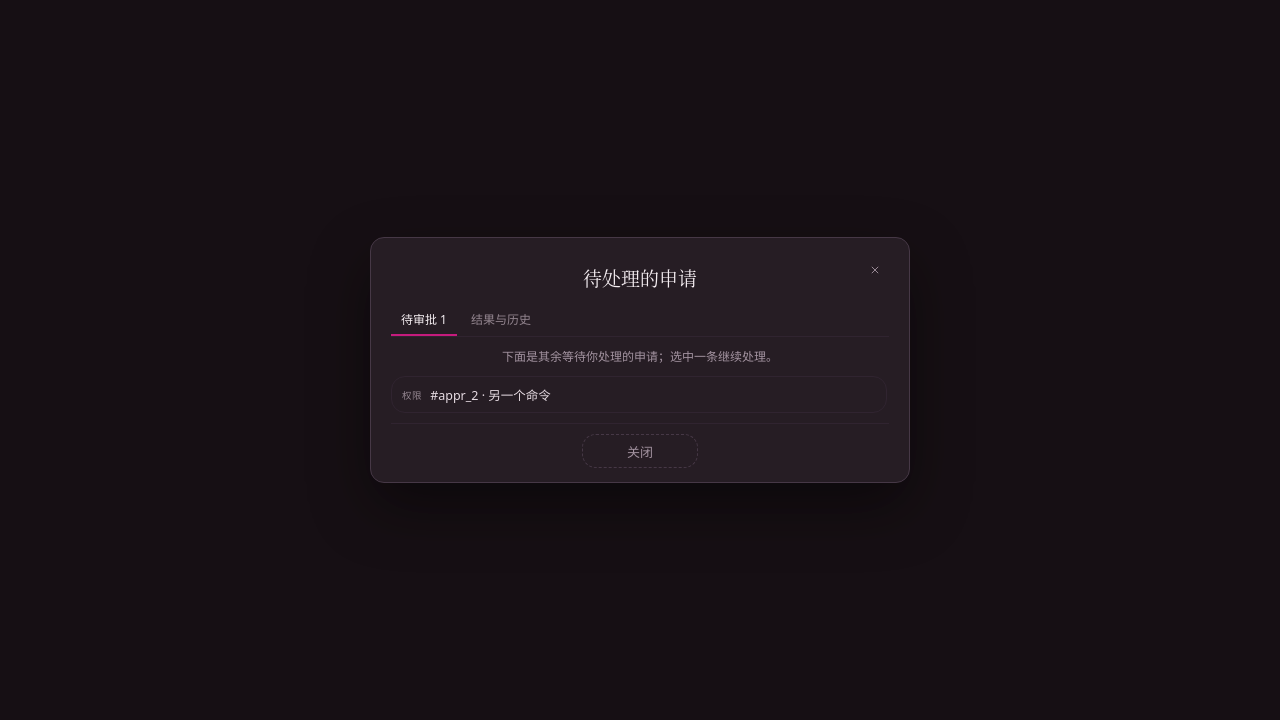
Scenario: 处理完一项：回到列表、保留位置，不自动进入下一条详情 › 提交成功后回到队列列表；用户点哪条才进入哪条详情
The width and height of the screenshot is (1280, 720).
Click the list item with test id "unified-approval-list-item".
click(490, 396)  # box [391,376,887,413]
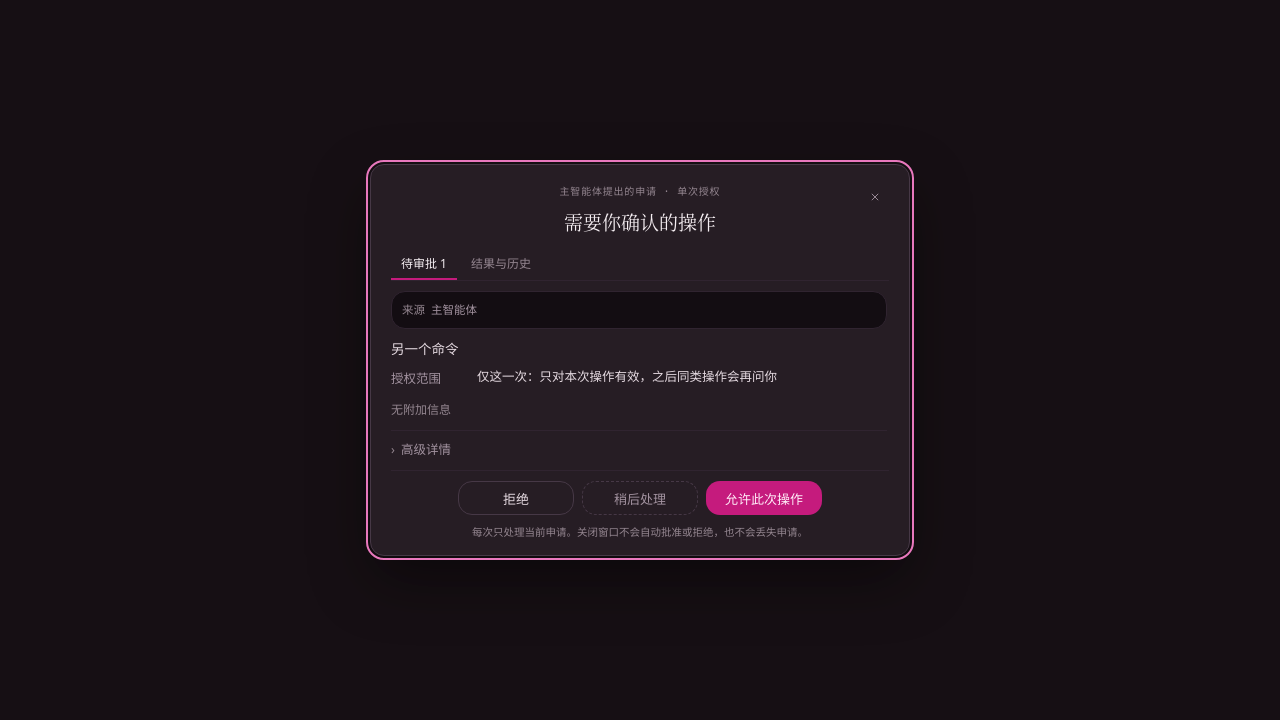
Now the button with test id "unified-approval-allow" is shown, box [706,481,822,515]
